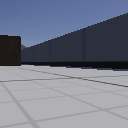obstacle: (1, 35, 22, 67)
